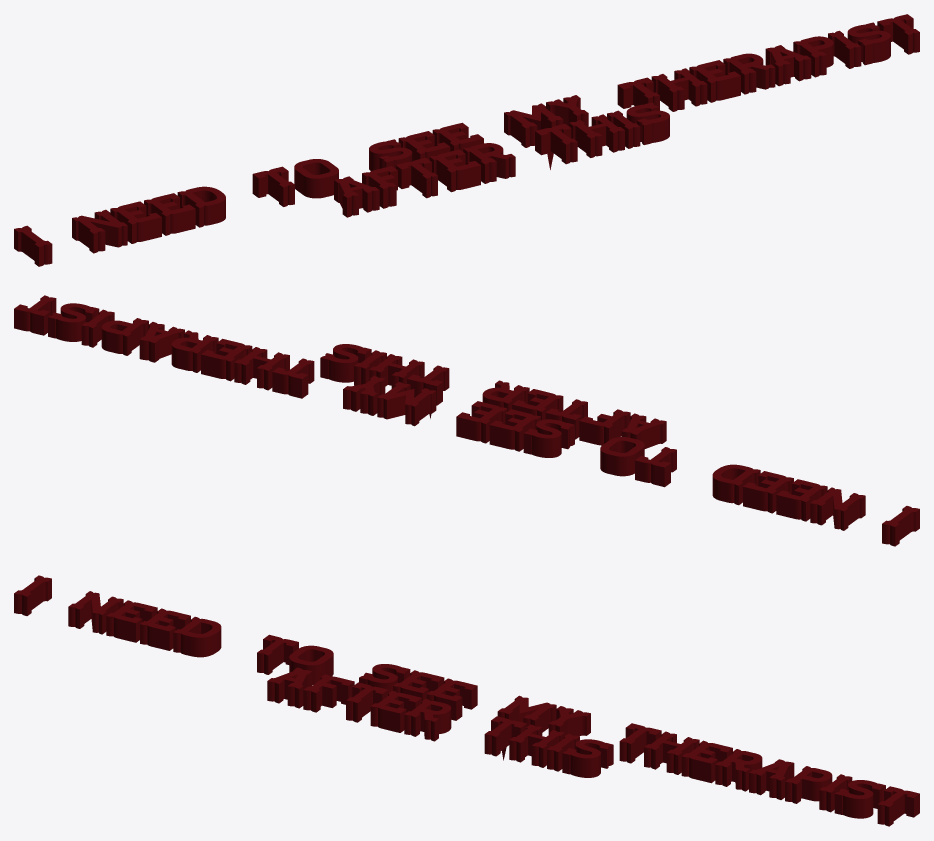
File: Therapist.fbx
The picture shows the model from 3 angles, top to bottom: view 1: azimuth 30°, elevation 25°; view 2: azimuth 150°, elevation 25°; view 3: azimuth 330°, elevation 25°; orthographic projection.
Visible parts, largest first — view 1: Text; view 2: Text; view 3: Text.
Part boxes in pixels (box(x1,y1,x2,y2)): Text: box(14, 14, 919, 266); Text: box(14, 295, 919, 546); Text: box(14, 575, 919, 826).
Bounding box in the file's own units: 2218 × 94 × 224.
